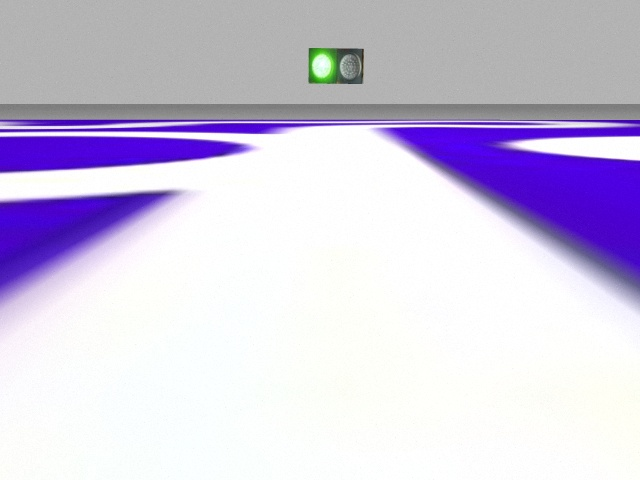green: (309, 48, 338, 83)
